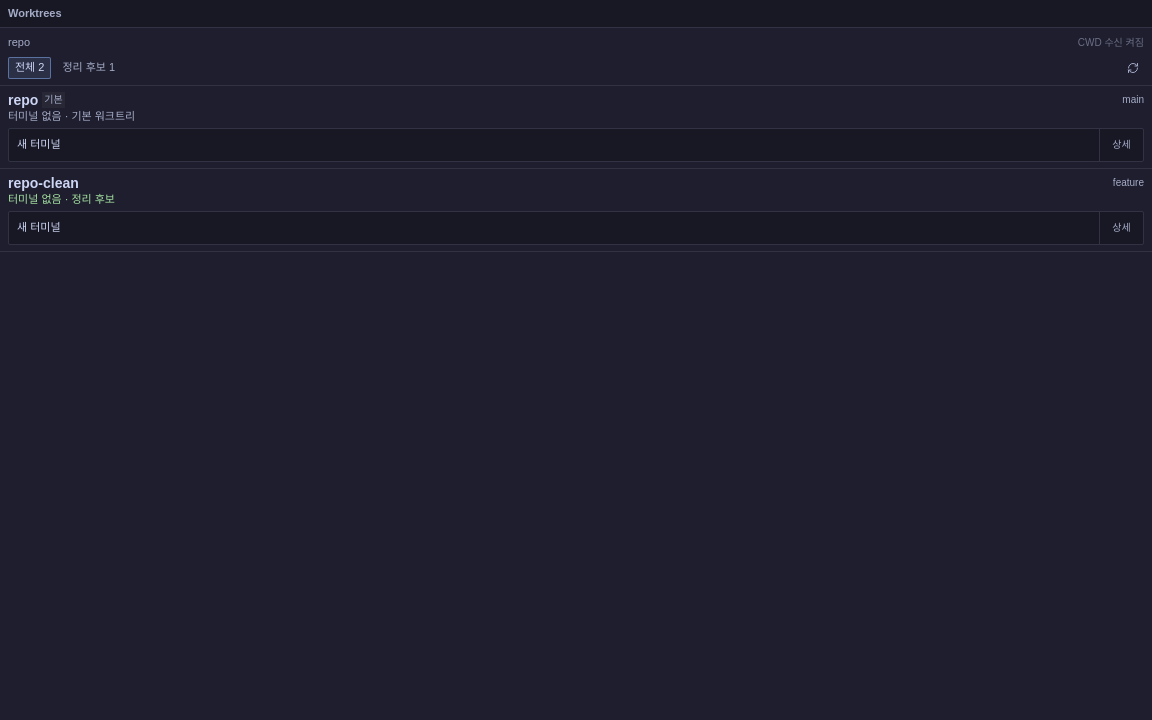
Test: WorktreeView › 제거 시점의 백엔드 거부는 표시하고 이전 검사로 다시 제거하지 않는다
The width and height of the screenshot is (1152, 720).
Click the button "상세" below "feature": (1121, 228) [1099, 212, 1143, 244]
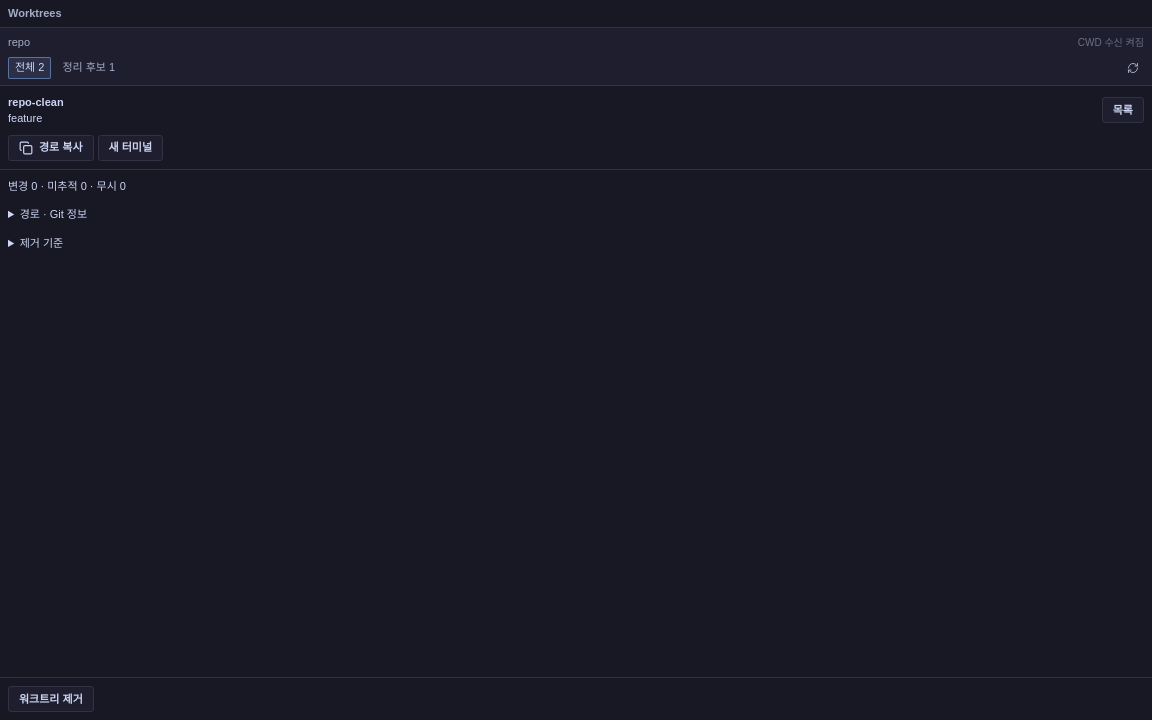
Click the button "워크트리 제거": (51, 699) [8, 686, 94, 712]
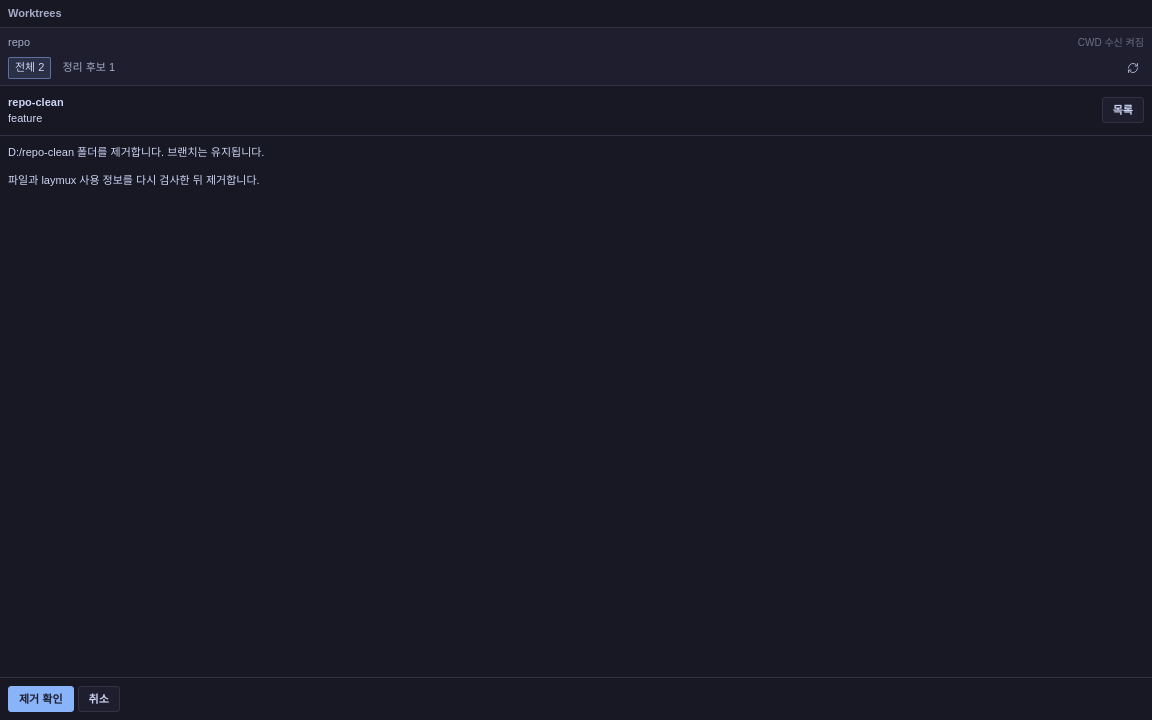
Click the button "제거 확인": (41, 699) [8, 686, 74, 712]
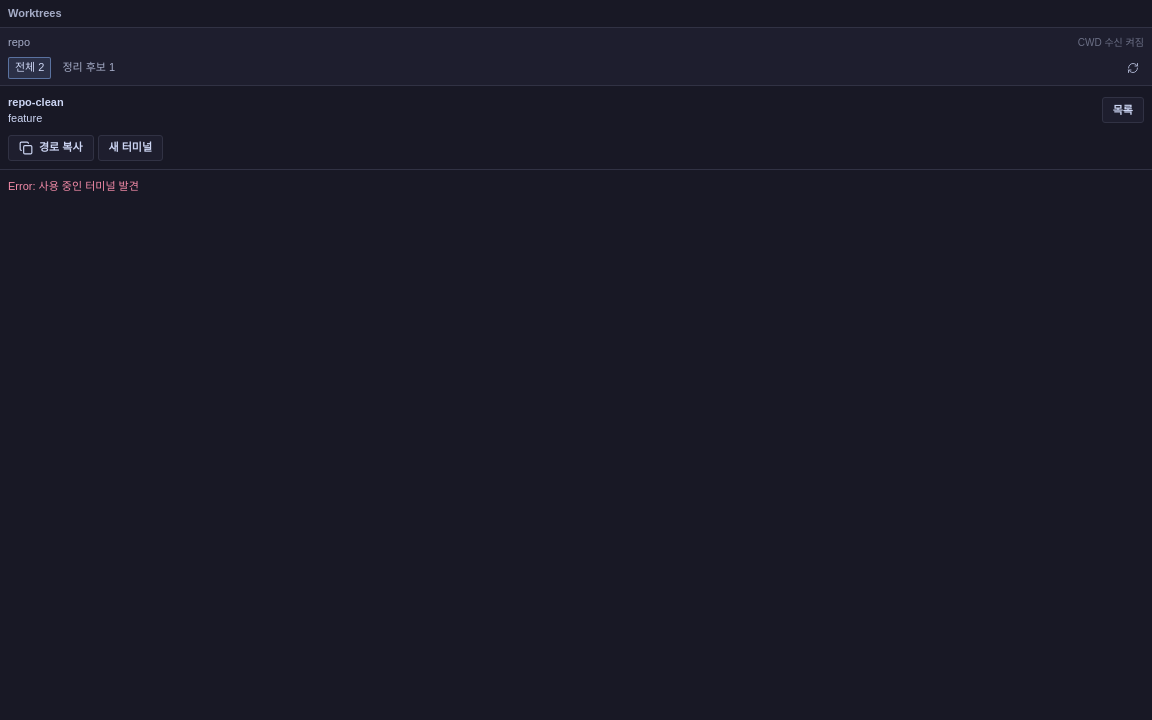
Expected: the message shows "사용 중인 터미널 발견", [8, 180, 139, 192]
Expected: the button "제거 확인" is gone
